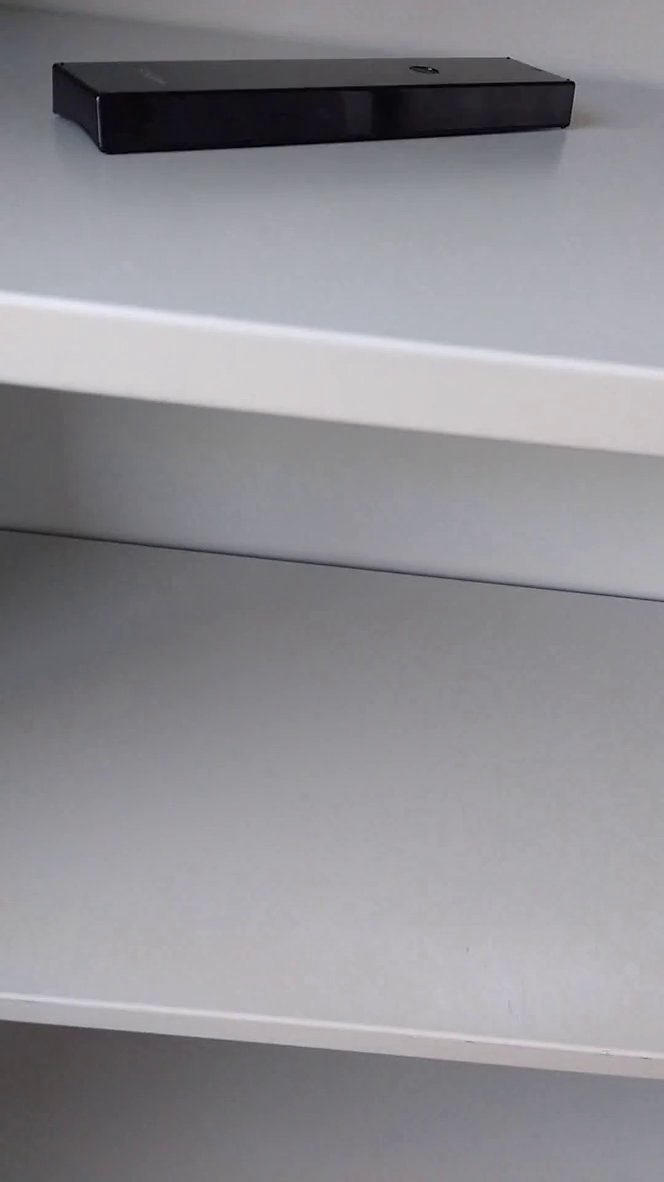remote: (46, 44, 581, 162)
